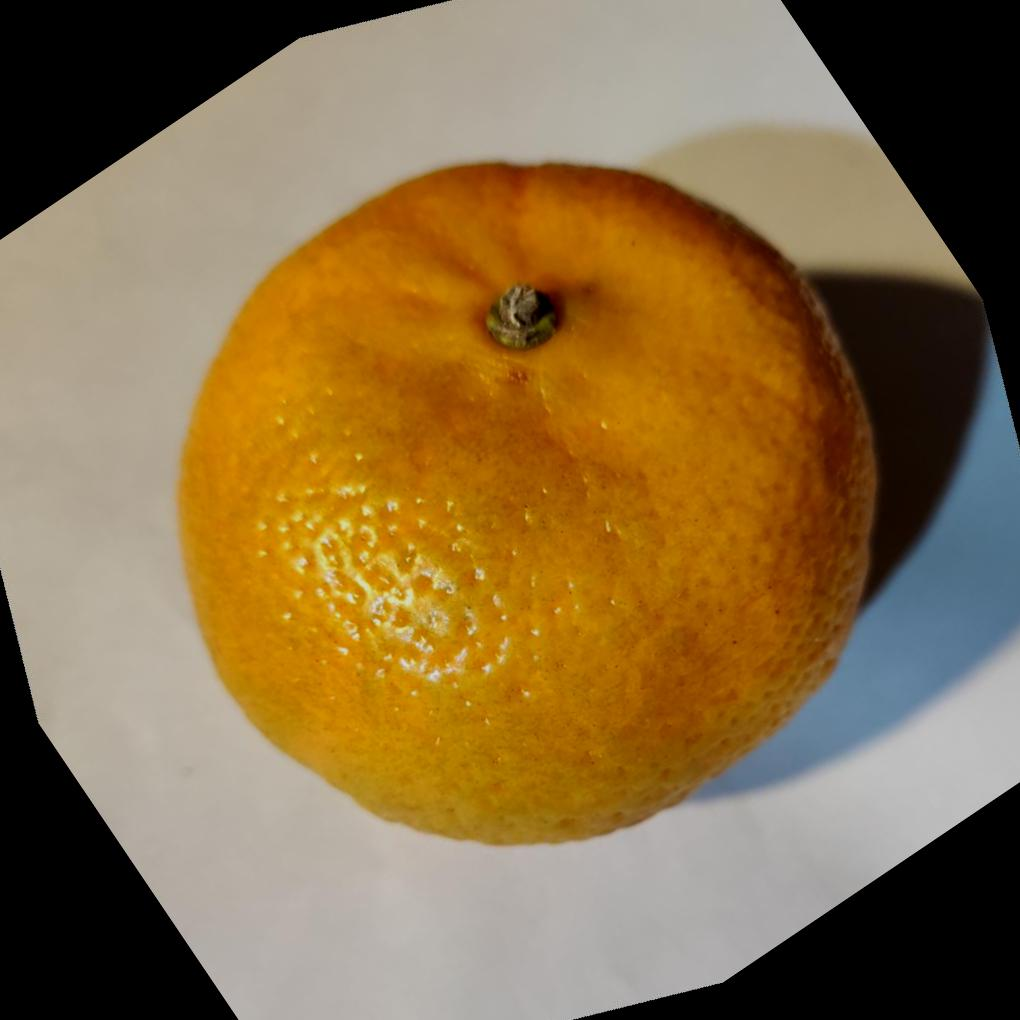FreshGuava: (177, 161, 883, 852)
